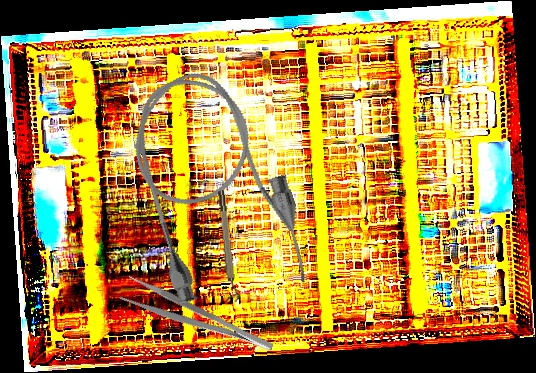Cannula: (111, 55, 320, 321)
Dressing Forceps: (118, 273, 276, 367)
Fixation Ring: (216, 189, 241, 303)
